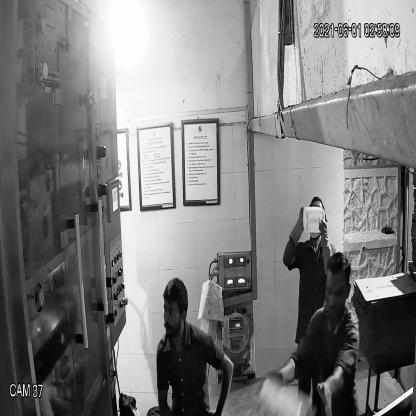no_goggles: (320, 282, 350, 302), (160, 302, 185, 323)
